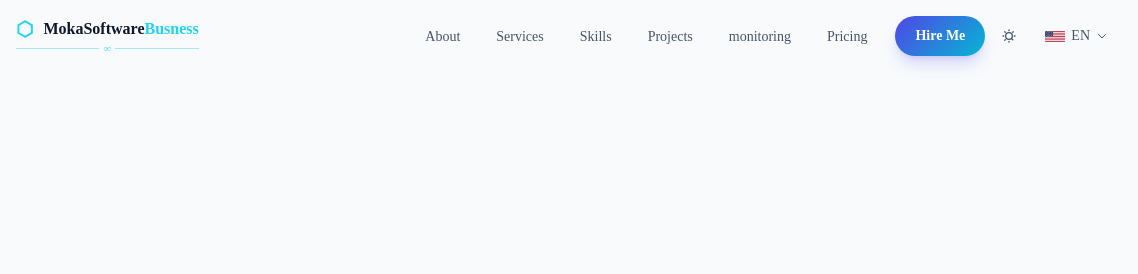
Test: Navbar › shows language dropdown on switcher click
Click the button with aria-label "Switch language": (1077, 36) [1033,18,1120,54]
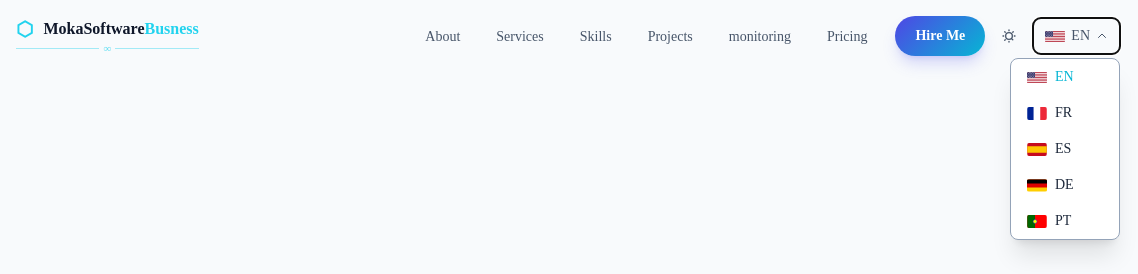
Expected: the button "FR" is shown, [1011,95,1119,131]
Expected: the button "ES" is shown, [1011,131,1119,167]
